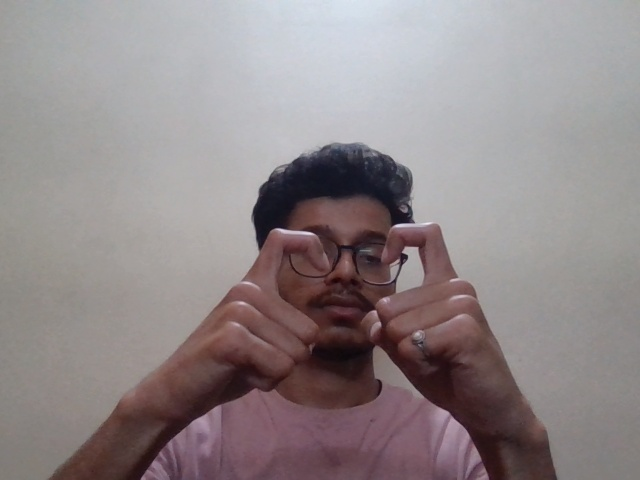who: (171, 212, 508, 390)
